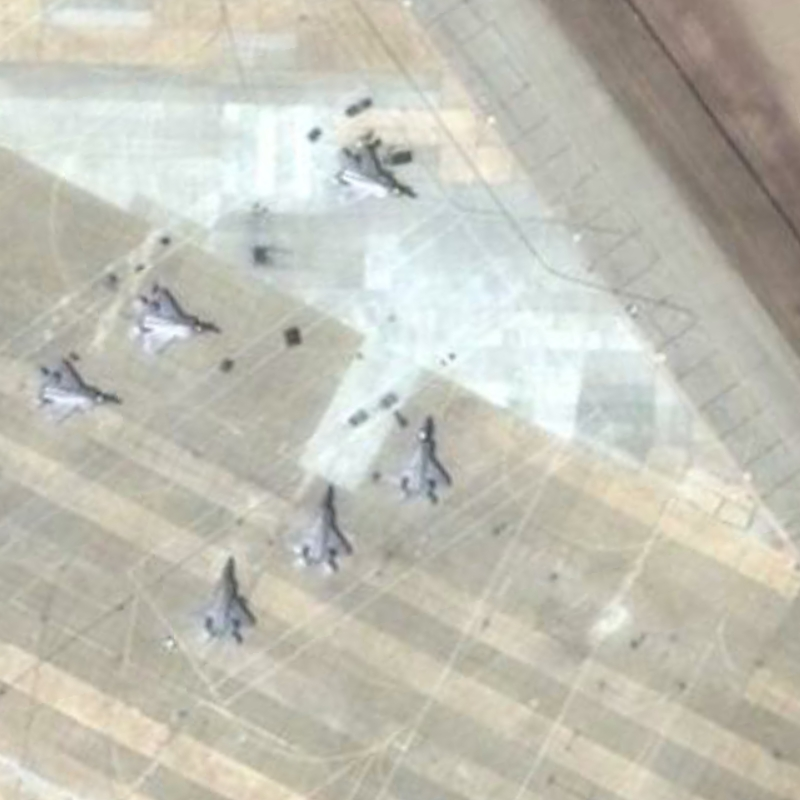A15: (281, 471, 359, 582), (121, 282, 224, 362), (380, 407, 459, 510), (24, 349, 124, 428), (188, 546, 263, 650), (326, 137, 422, 215)
